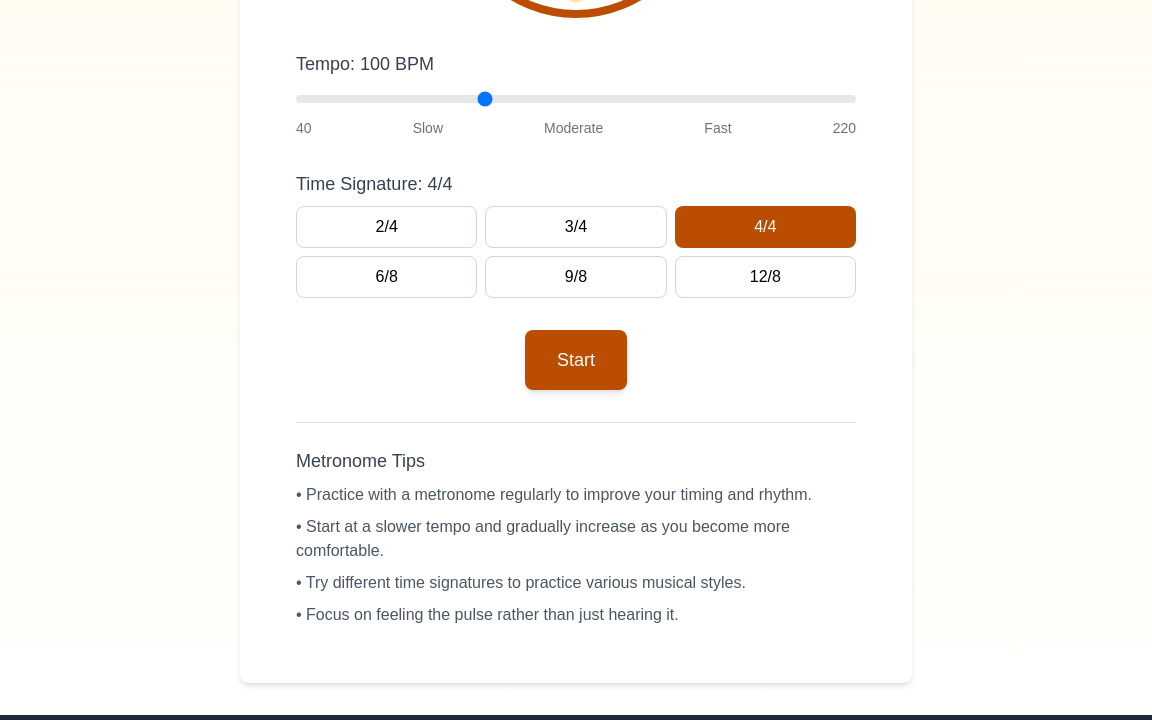
Scenario: Metronome › toggles between Start and Stop
This screenshot has width=1152, height=720.
(page scrolled)
Click the button "Start" at point(576, 360), box x1=525 y1=330 x2=627 y2=390
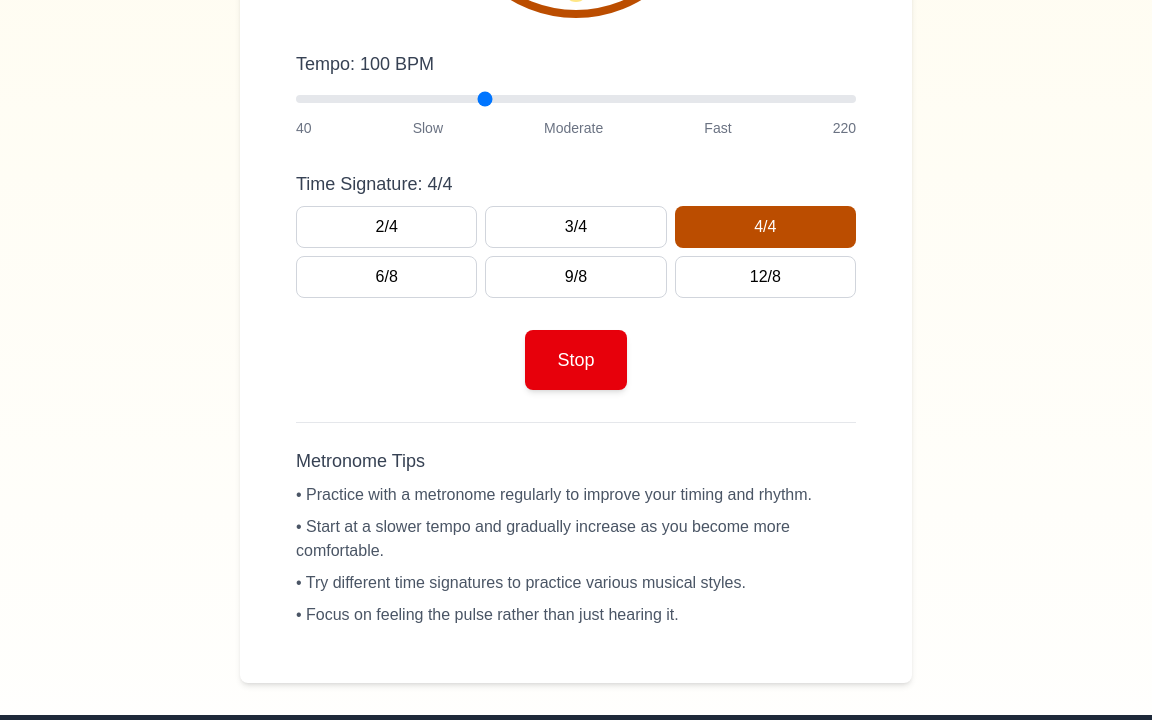
Check: the button "Stop" is shown
Click the button "Stop" at point(577, 360), box x1=526 y1=330 x2=627 y2=390
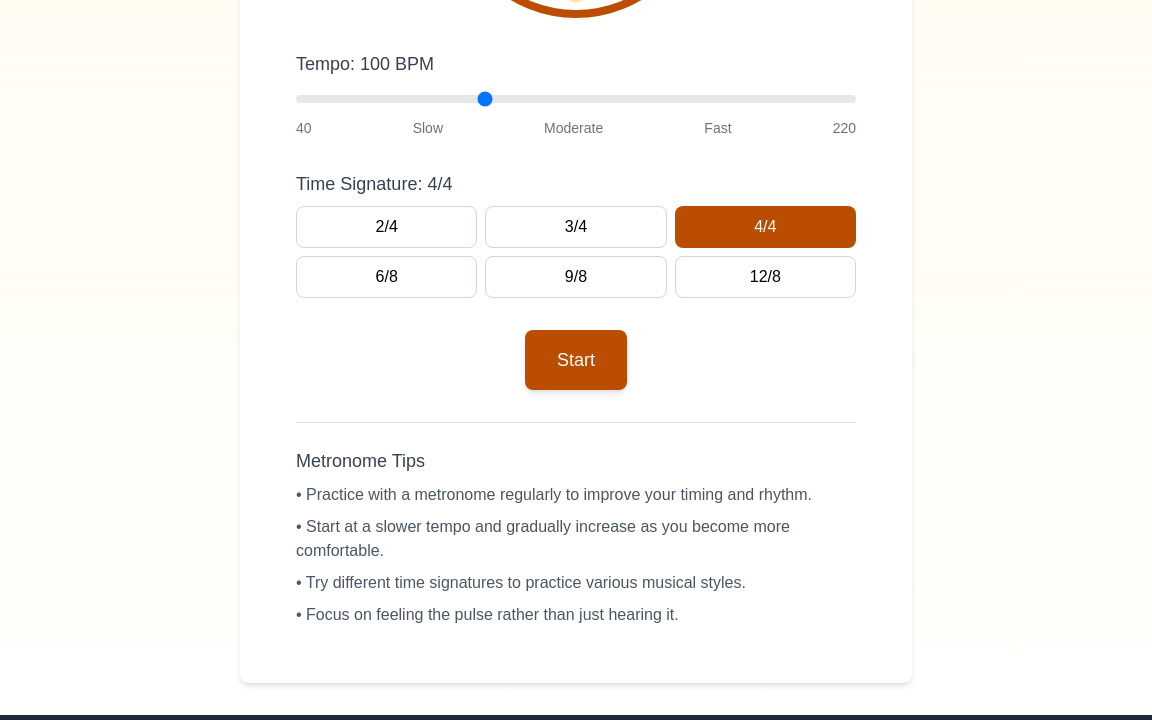
Check: the button "Start" is shown, box x1=525 y1=330 x2=627 y2=390
